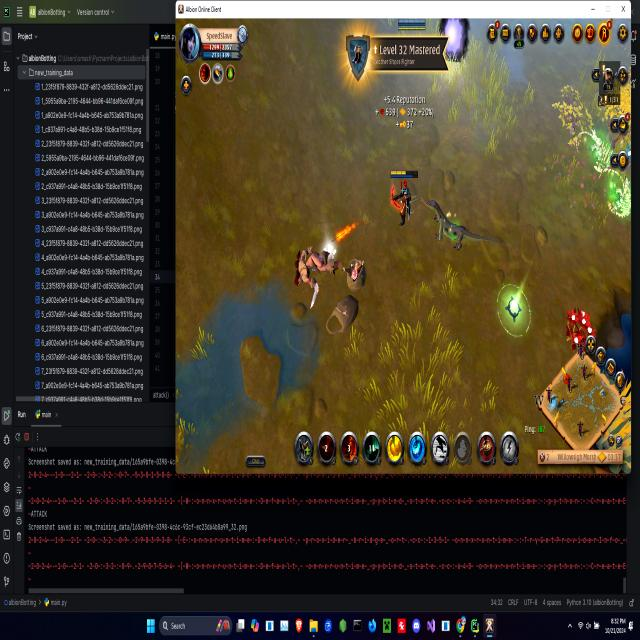ore: (424, 192, 507, 270)
red: (385, 160, 420, 233), (394, 15, 428, 35)
stone: (562, 299, 598, 360), (319, 242, 337, 264)
